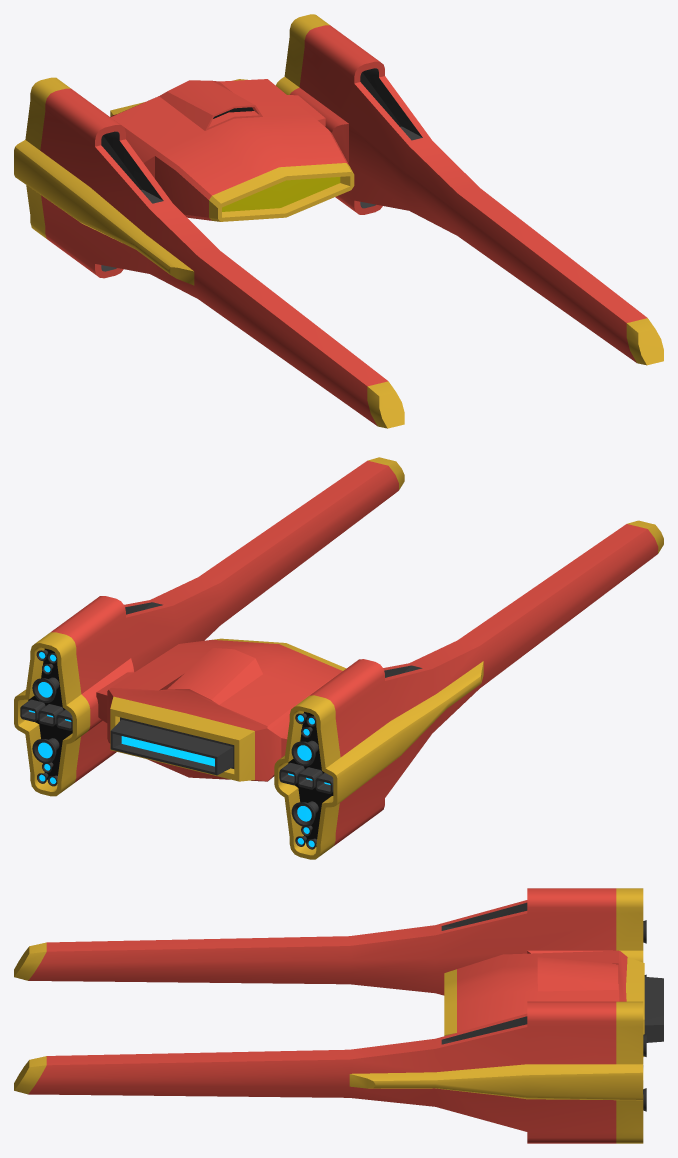
3 views of the same model, one above another, from view 1: azimuth 30°, elevation 25°; view 2: azimuth 150°, elevation 25°; view 3: azimuth 270°, elevation 25° (orthographic). The views are drawn at different scales.
Parts seen in each view (by area): view 1: ShipPart_485, ShipPart_59, ShipPart_2; view 2: ShipPart_485, ShipPart_59, ShipPart_2; view 3: ShipPart_59, ShipPart_485, ShipPart_2.
Part boxes in pixels (x1,y1,x2,y2): ShipPart_485: (14,77,404,428); ShipPart_59: (276,14,663,365); ShipPart_2: (110,79,354,221); ShipPart_485: (274,520,663,859); ShipPart_59: (14,457,404,796); ShipPart_2: (96,638,346,781); ShipPart_59: (14,1001,646,1143); ShipPart_485: (14,888,646,995); ShipPart_2: (444,950,663,1056).
Bounding box in the file's own units: 5.78 × 2.58 × 11.21.
